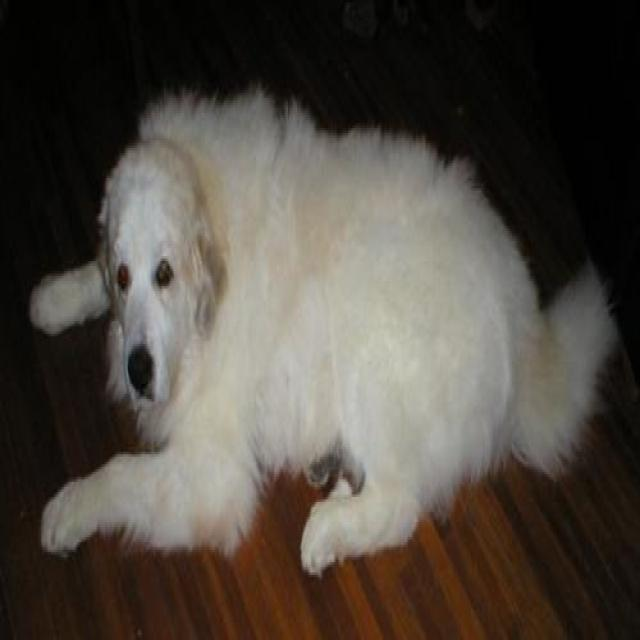Dogs: (28, 80, 621, 580)
